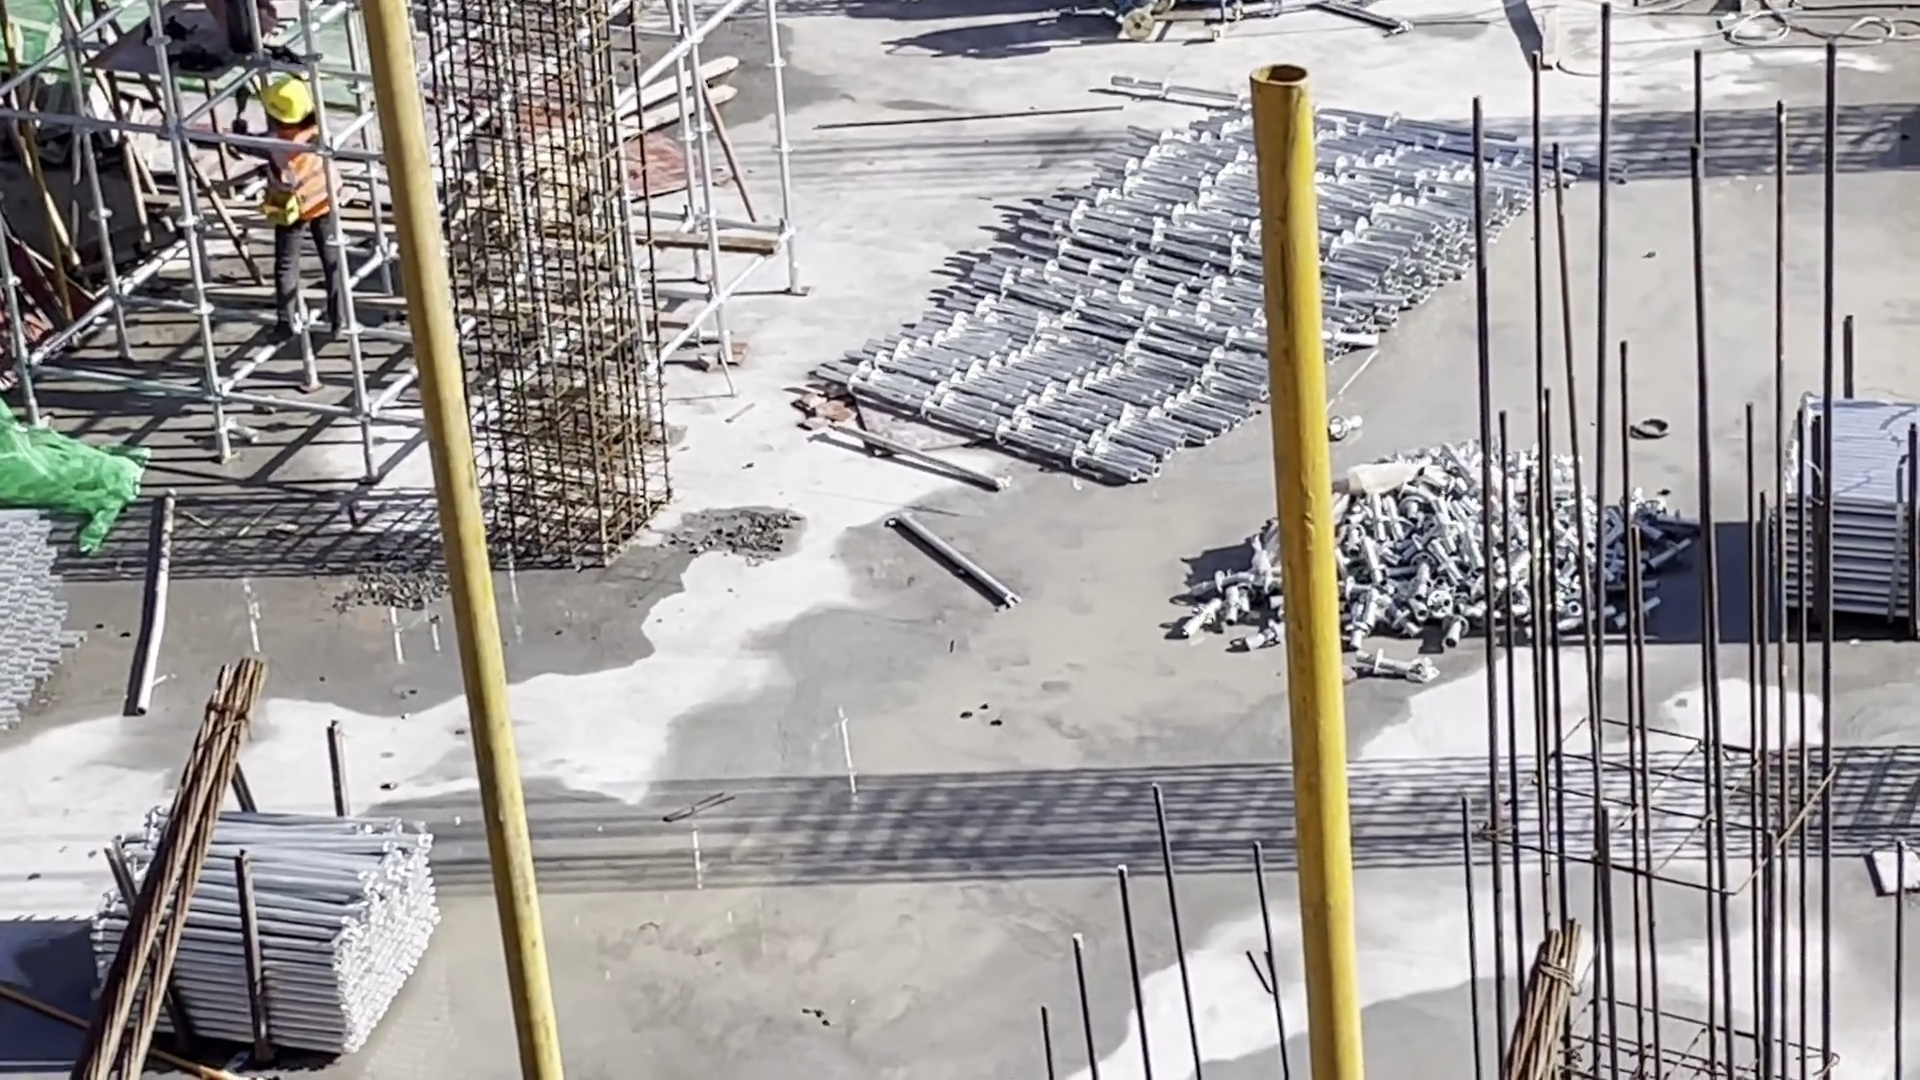helmet: (265, 82, 311, 123)
person: (262, 80, 354, 346)
scaffold: (809, 59, 1628, 490), (85, 789, 443, 1059), (1778, 394, 1920, 619)
vest: (269, 135, 336, 221)
